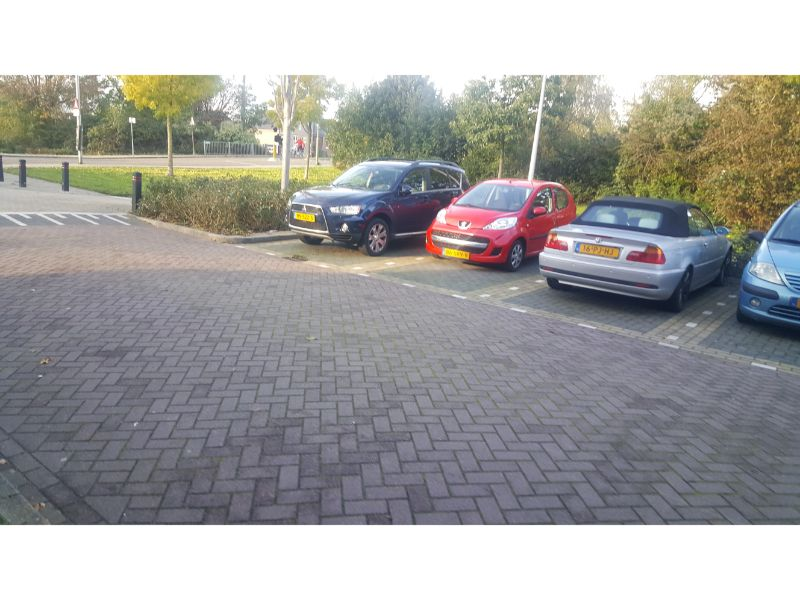kenteken: (573, 240, 617, 257), (289, 209, 318, 225), (441, 247, 472, 261)
